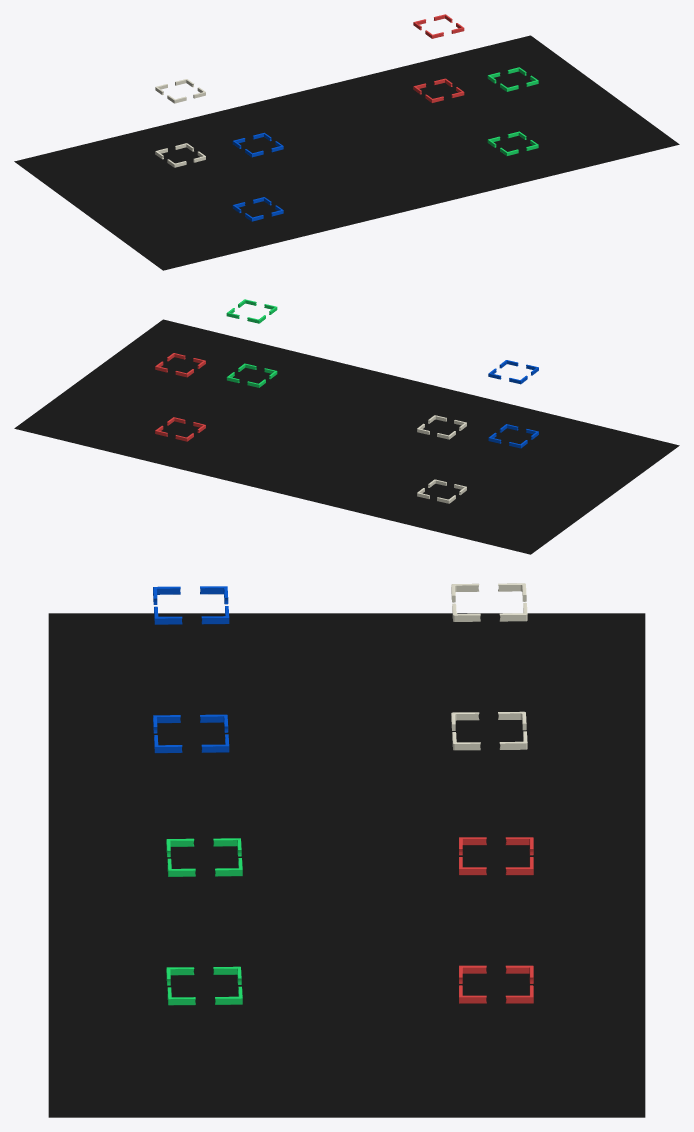
The model's file is frontArena.gltf.
3 renders of one model, top to bottom at view 1: azimuth 30°, elevation 25°; view 2: azimuth 150°, elevation 25°; view 3: azimuth 270°, elevation 25°, orthographic. The views are drawn at different scales.
Visible parts, largest first — view 1: floor; view 2: floor; view 3: floor, door.001, door, Cube.025, Cube.023, Cube.026, Cube.031, Cube.035, Cube.034.
Part boxes in pixels (x1,y1,x2,y2): floor: (14, 35, 679, 270); floor: (14, 319, 679, 554); floor: (48, 613, 645, 1117); door.001: (459, 837, 533, 875); door: (459, 965, 533, 1003); Cube.025: (451, 583, 527, 621); Cube.023: (153, 586, 229, 624); Cube.026: (166, 838, 242, 876); Cube.031: (451, 711, 527, 750); Cube.035: (166, 966, 242, 1005); Cube.034: (153, 714, 229, 753).
Size of the model in its own units: 32 by 4.1 by 16.
